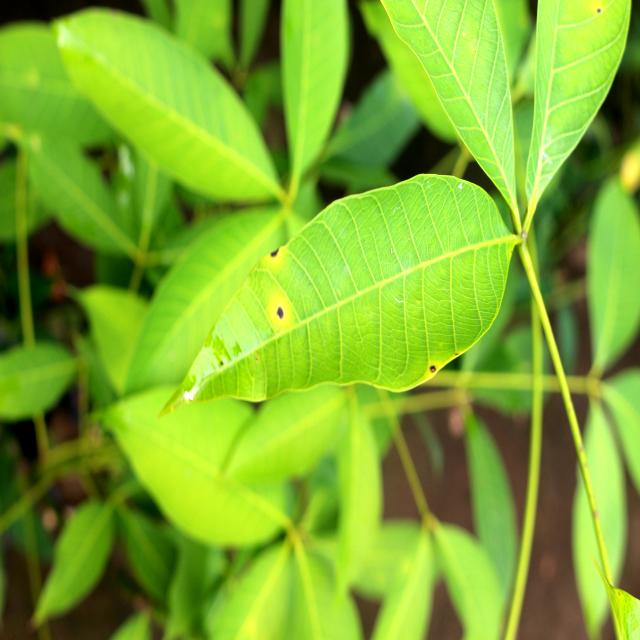Colletotrichum: (277, 307, 283, 319), (430, 366, 436, 372)
